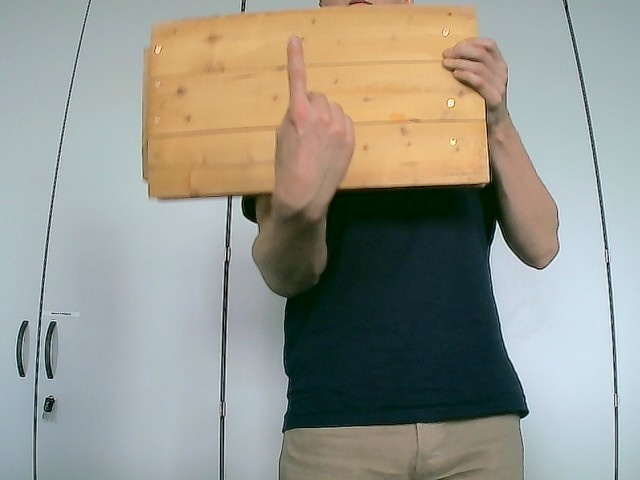up: (270, 34, 356, 221)
